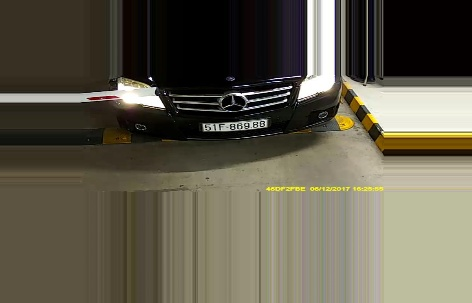plate: (202, 118, 269, 130)
